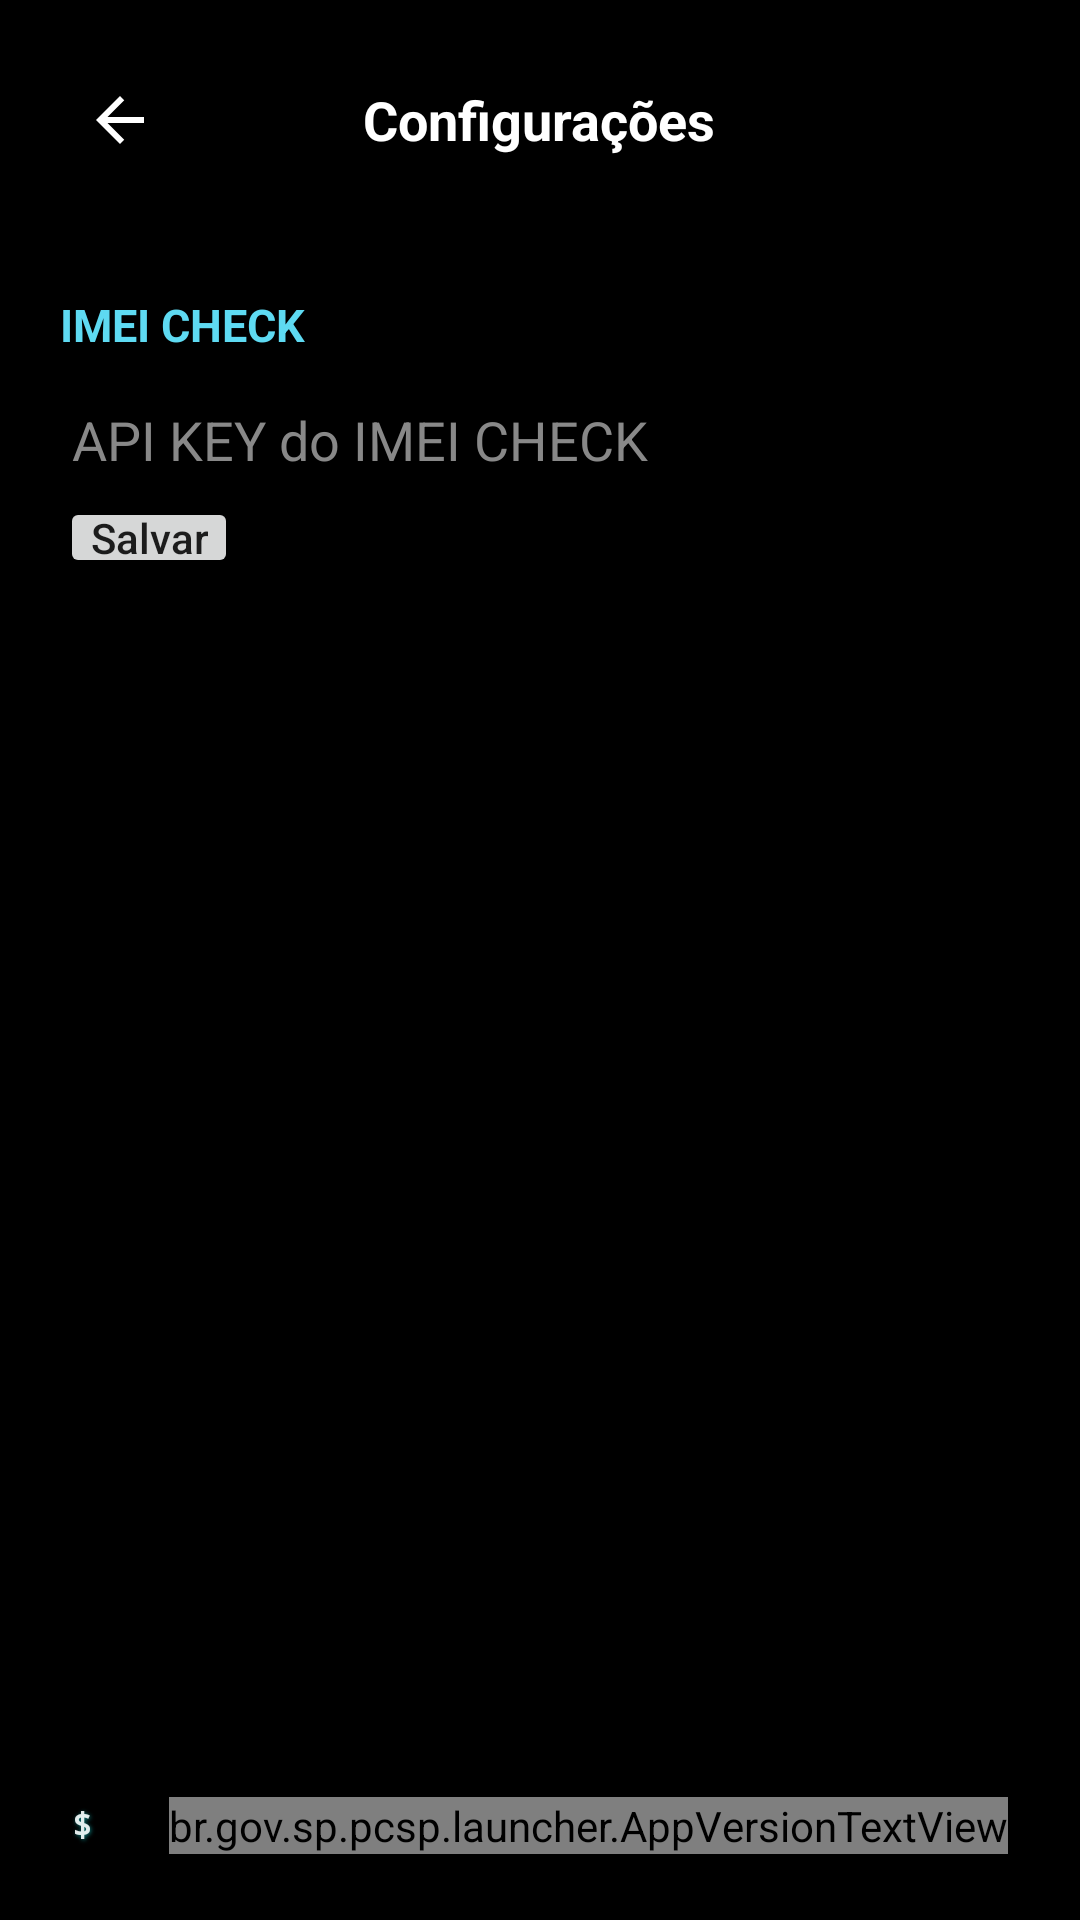

Icons on this 1080w x 1920h Android screen, each with its box as (x1=x1, y1=y1, x2=x2, y2=y2):
Voltar: (x1=96, y1=96, x2=144, y2=144)
